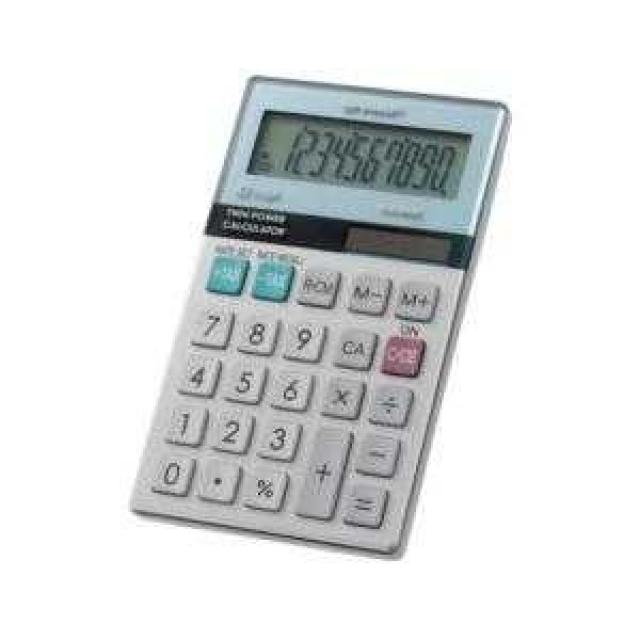Calculator: (126, 70, 512, 559)
